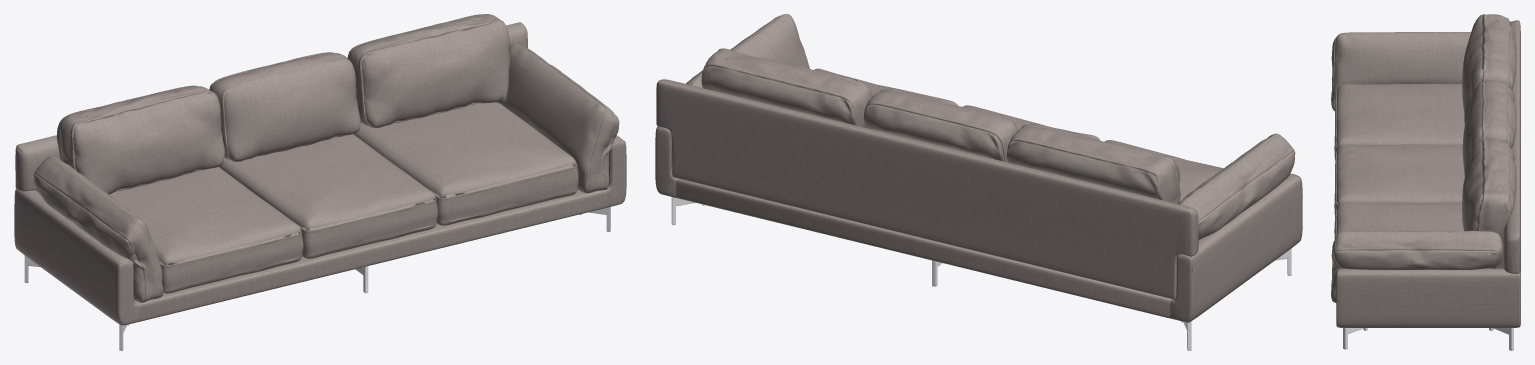
Rendered from sofa_grey_fabric.glb.
3 renders of one model, left to right at view 1: azimuth 30°, elevation 25°; view 2: azimuth 150°, elevation 25°; view 3: azimuth 270°, elevation 25°, orthographic. The views are drawn at different scales.
Parts seen in each view (by area): view 1: Fabric_Gray_Sofa, Fabric_Gray_Legs; view 2: Fabric_Gray_Sofa, Fabric_Gray_Legs; view 3: Fabric_Gray_Sofa, Fabric_Gray_Legs.
Boxes of the visible parts, box(x1,y1,x2,y2) form: Fabric_Gray_Sofa: box(14, 14, 626, 325); Fabric_Gray_Legs: box(24, 207, 610, 350); Fabric_Gray_Sofa: box(655, 14, 1302, 322); Fabric_Gray_Legs: box(671, 197, 1291, 350); Fabric_Gray_Sofa: box(1331, 14, 1520, 327); Fabric_Gray_Legs: box(1343, 328, 1513, 350).
Size of the model in its own units: 2.9 by 0.899 by 1.07.
Materials: 2 (1 with a texture image).
